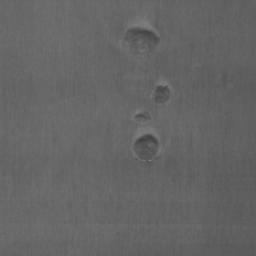Rolled pit: (123, 23, 160, 53), (133, 134, 159, 161), (153, 85, 170, 103), (134, 112, 151, 122)
